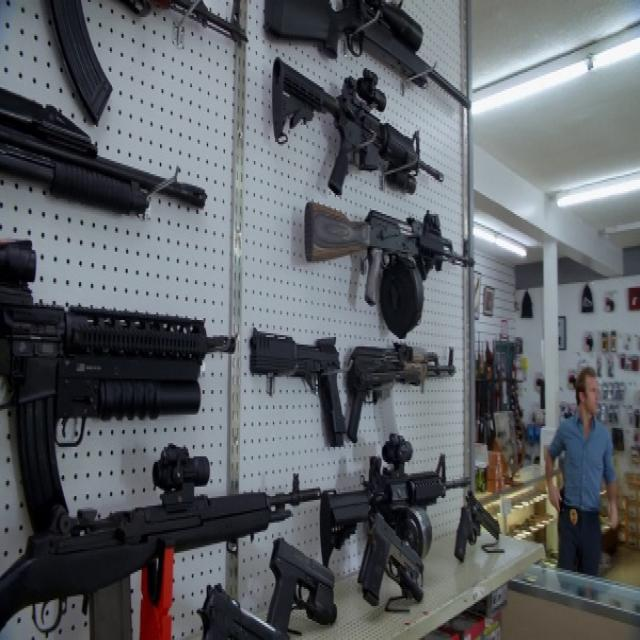rifle: (1, 230, 240, 541), (1, 444, 327, 640), (273, 52, 447, 206), (302, 198, 478, 313), (319, 436, 473, 566), (341, 337, 459, 454), (249, 321, 350, 453)
